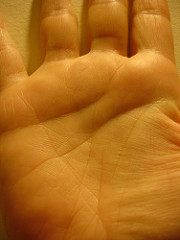palm: (12, 65, 174, 235)
